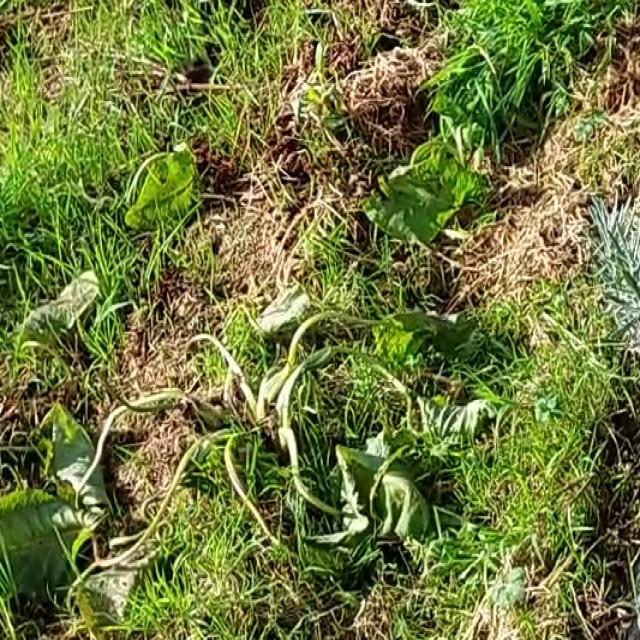organic waste: (4, 122, 521, 590)
